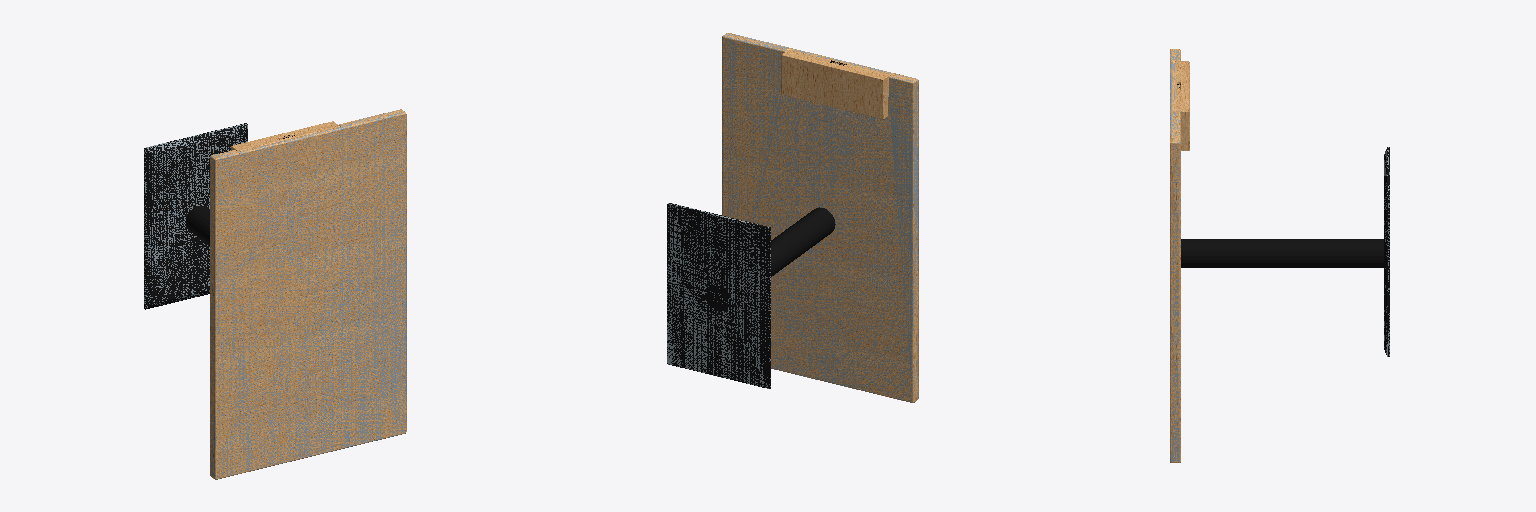
3 renders of one model, left to right at view 1: azimuth 30°, elevation 25°; view 2: azimuth 150°, elevation 25°; view 3: azimuth 270°, elevation 25°, orthographic.
Visible parts, largest first — view 1: Mesh16 blad_60x60_1 Group1 Model, Mesh4 Group3 Group1 Model, Mesh7 Group4 blad_60x60_1 Group1 Model, Mesh1 Group2 Group1 Model; view 2: Mesh16 blad_60x60_1 Group1 Model, Mesh4 Group3 Group1 Model, Mesh7 Group4 blad_60x60_1 Group1 Model, Mesh1 Group2 Group1 Model; view 3: Mesh1 Group2 Group1 Model, Mesh16 blad_60x60_1 Group1 Model, Mesh4 Group3 Group1 Model, Mesh7 Group4 blad_60x60_1 Group1 Model.
Boxes of the visible parts, x1=… form: Mesh16 blad_60x60_1 Group1 Model: x1=210, y1=109, x2=406, y2=479; Mesh4 Group3 Group1 Model: x1=144, y1=123, x2=247, y2=309; Mesh7 Group4 blad_60x60_1 Group1 Model: x1=231, y1=121, x2=339, y2=151; Mesh1 Group2 Group1 Model: x1=186, y1=206, x2=209, y2=245; Mesh16 blad_60x60_1 Group1 Model: x1=722, y1=33, x2=918, y2=402; Mesh4 Group3 Group1 Model: x1=667, y1=203, x2=770, y2=388; Mesh7 Group4 blad_60x60_1 Group1 Model: x1=781, y1=50, x2=890, y2=119; Mesh1 Group2 Group1 Model: x1=705, y1=207, x2=835, y2=310; Mesh1 Group2 Group1 Model: x1=1181, y1=239, x2=1383, y2=267; Mesh16 blad_60x60_1 Group1 Model: x1=1170, y1=49, x2=1180, y2=462; Mesh4 Group3 Group1 Model: x1=1384, y1=147, x2=1389, y2=356; Mesh7 Group4 blad_60x60_1 Group1 Model: x1=1175, y1=61, x2=1189, y2=150.
Size of the model in its own units: 0.75 by 1.2 by 0.7461.
Materials: 3 (1 with a texture image).